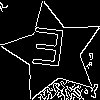E: (28, 27, 67, 76)
